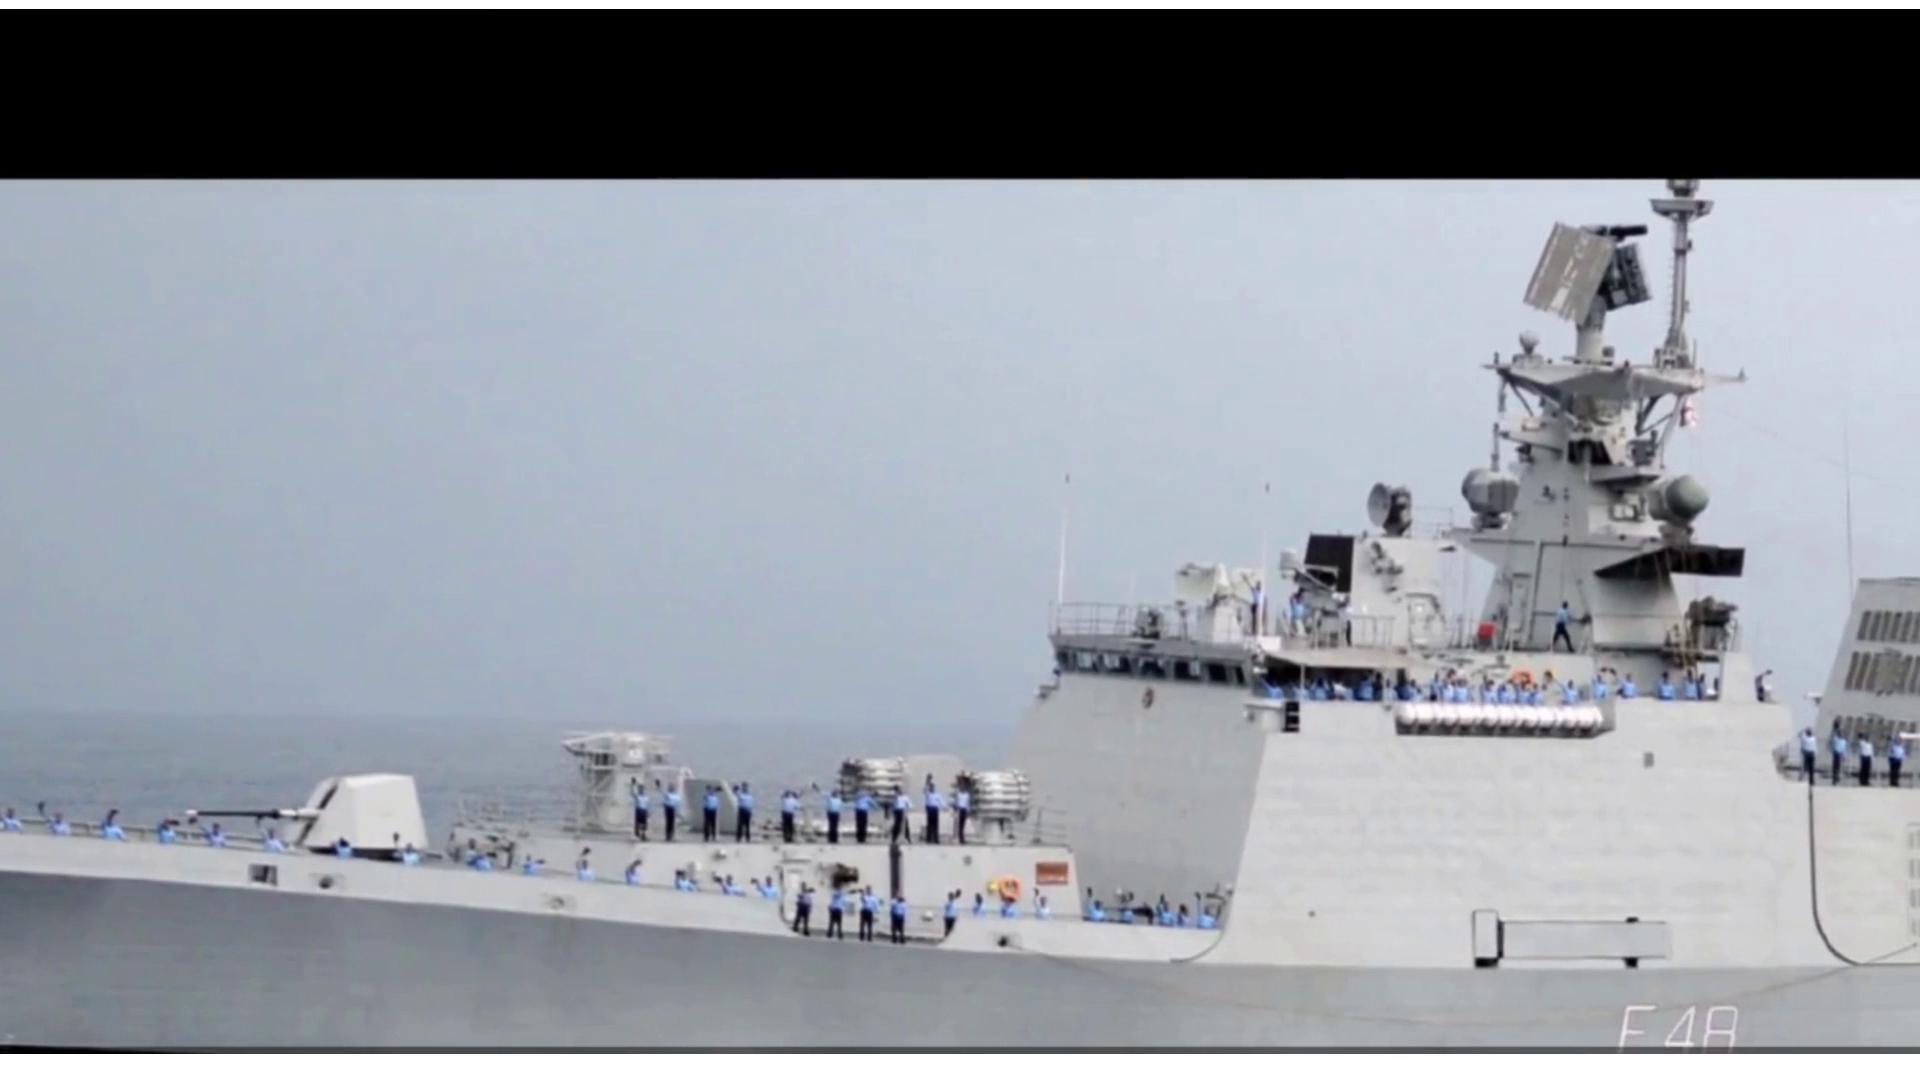OCR: (1589, 986, 1747, 1048)
